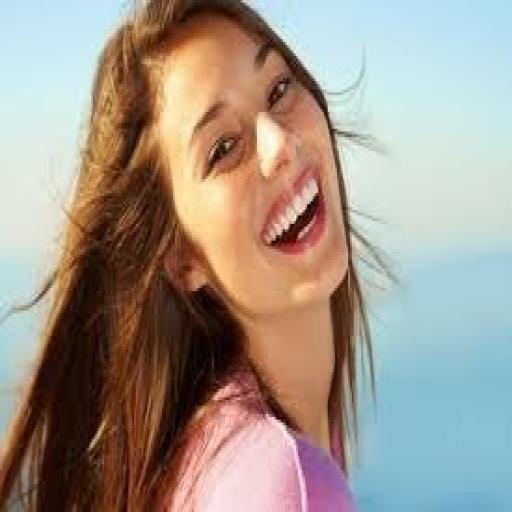laughing: (0, 0, 410, 509)
